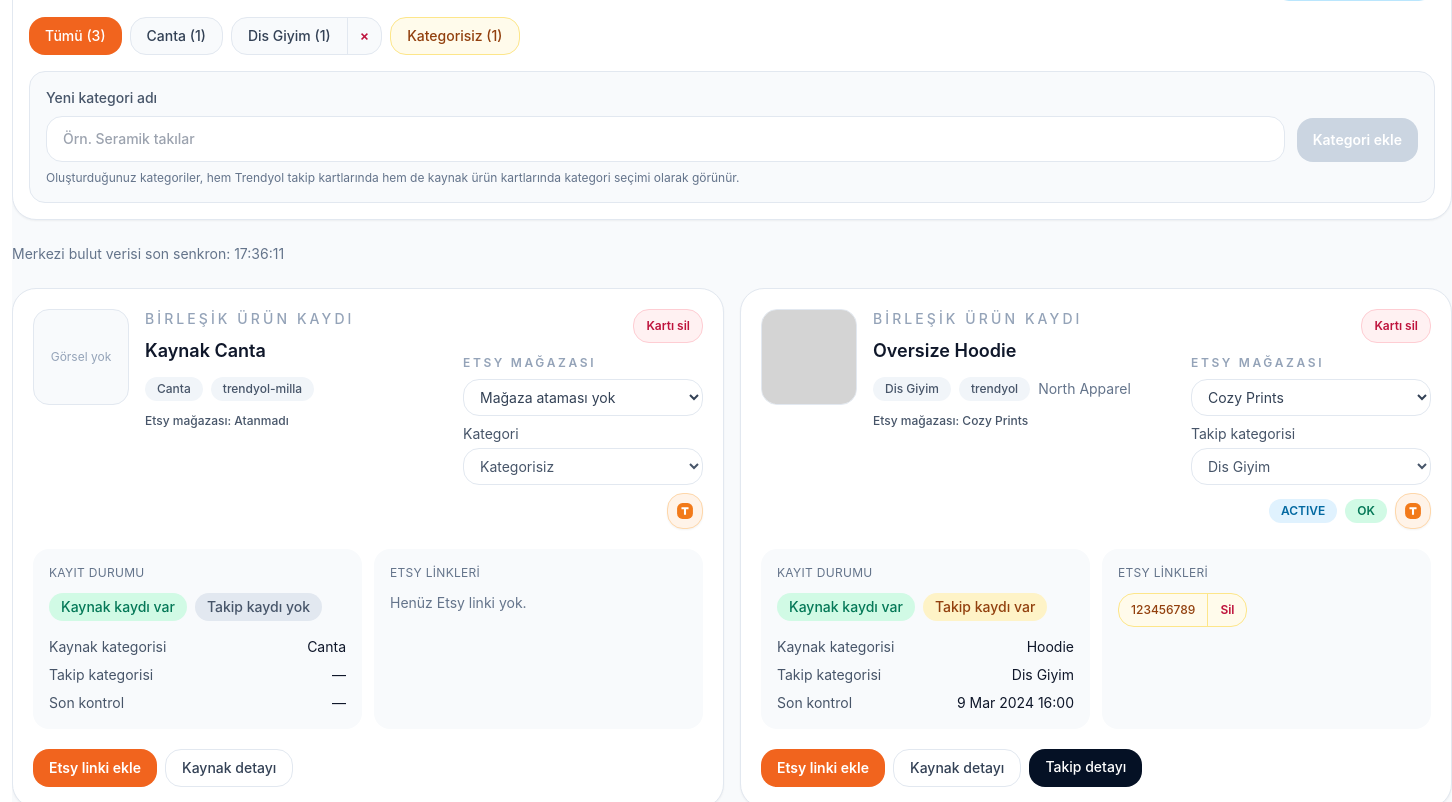
Test: TrackingCenterPage › assigns selected etsy shop on the card
(page scrolled)
Select "Nordic Lane" in the dropdown labelled "Etsy mağazası" next to "North Apparel" at {"x": 1311, "y": 398}, box [1191,379,1431,416]
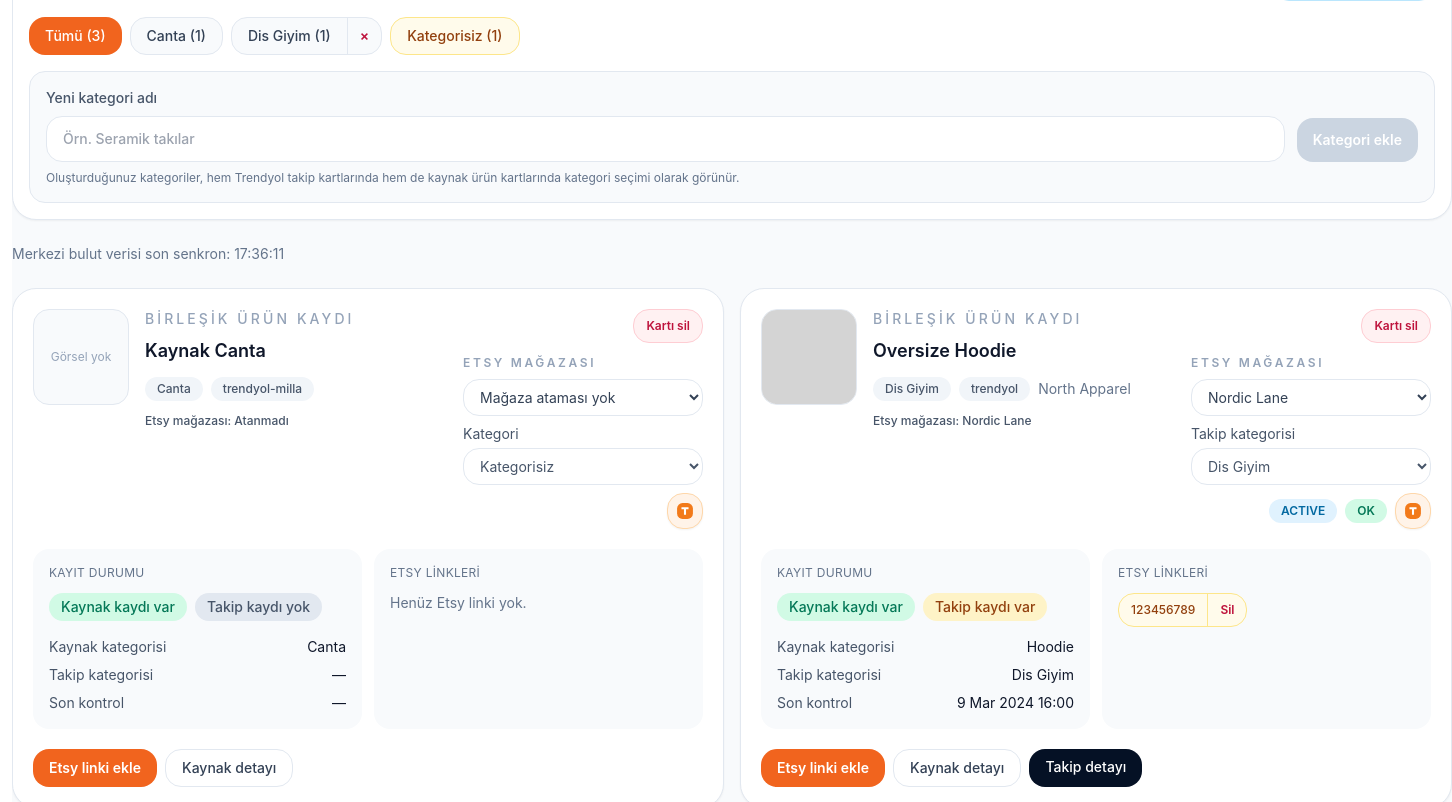
Check: the text "Etsy mağazası: Nordic Lane" is shown, box [873,413,1032,428]
